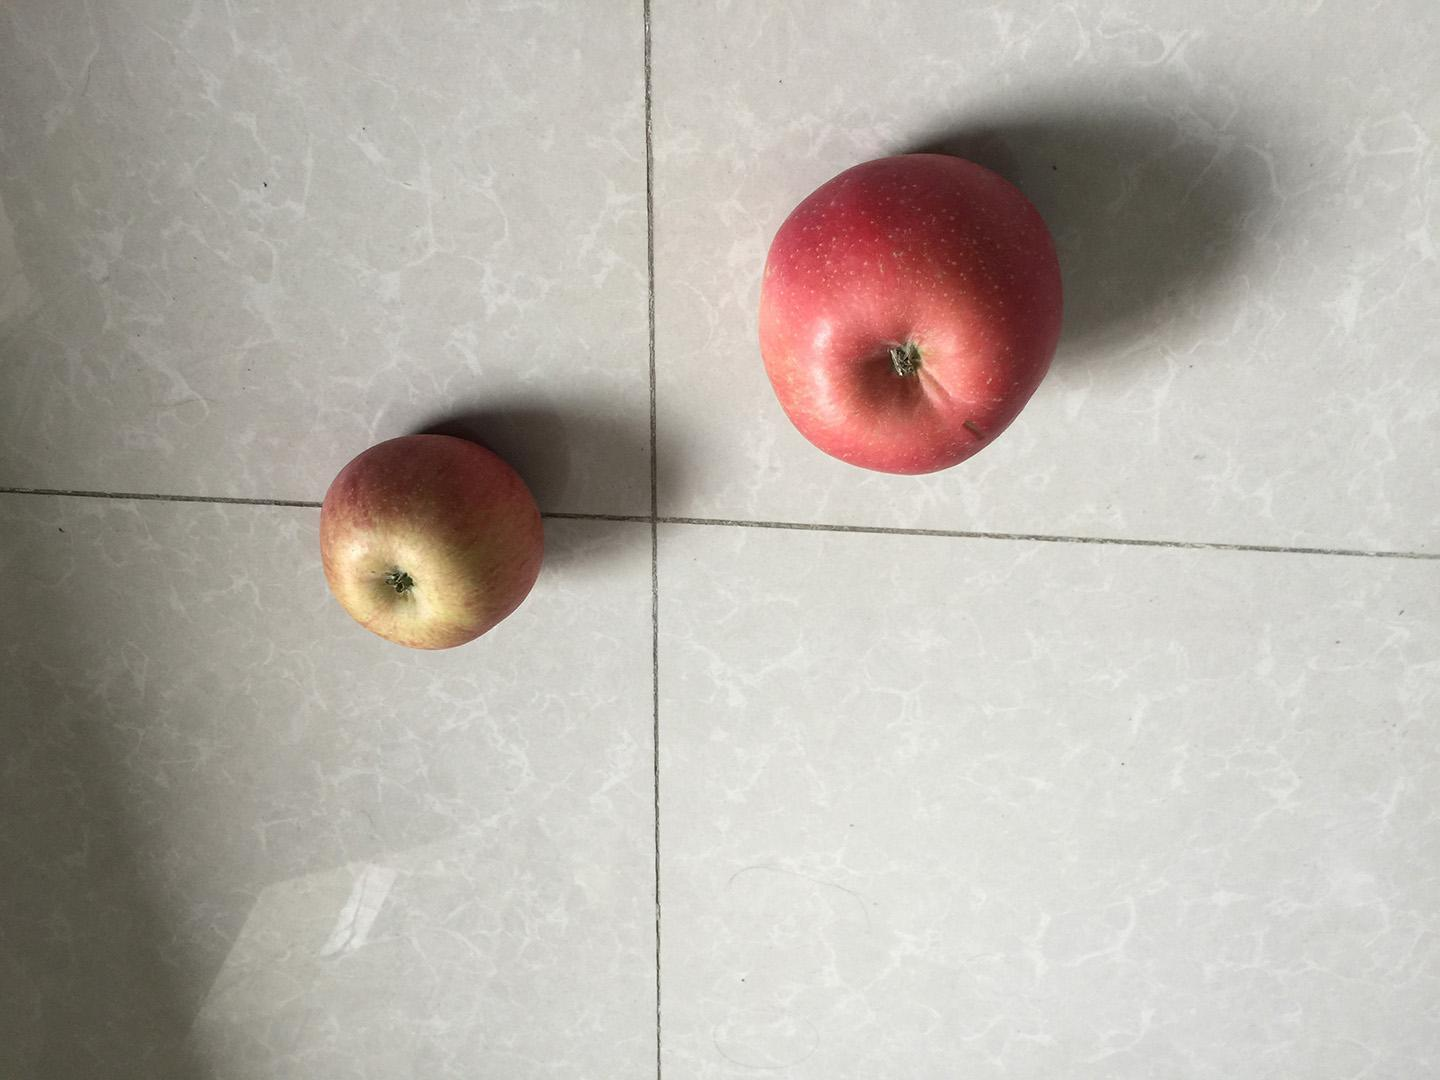apple: (751, 143, 1071, 486), (312, 428, 551, 659)
